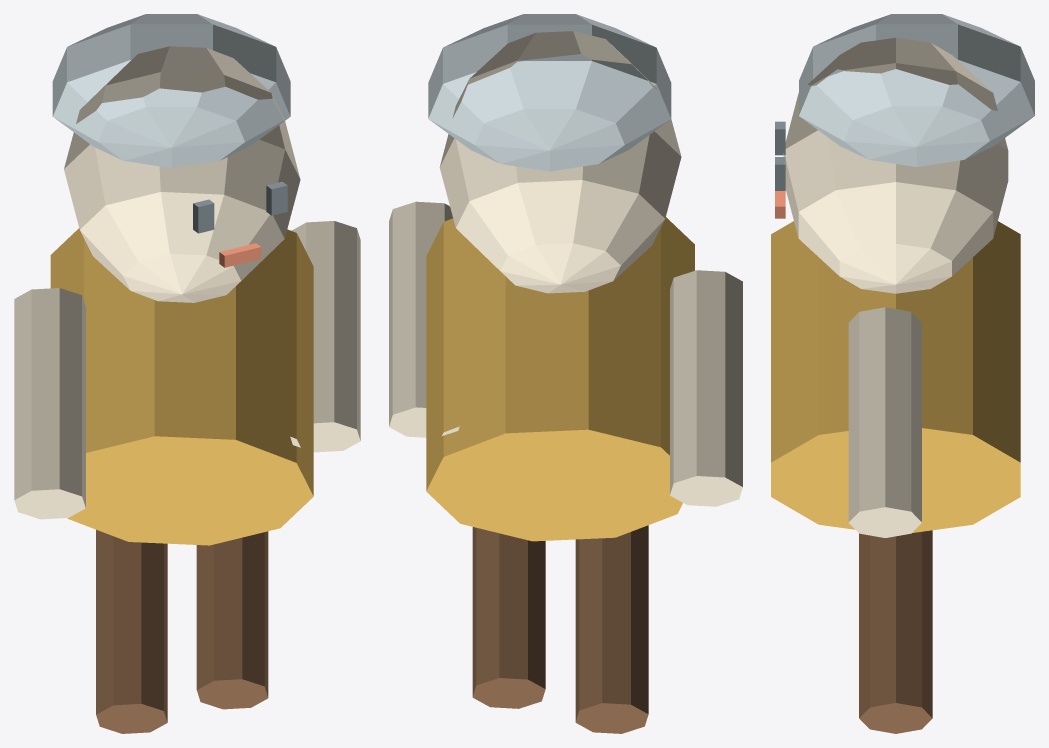
File: guest_mustard.glb
3 views of the same model, side by side, from view 1: azimuth 30°, elevation 25°; view 2: azimuth 150°, elevation 25°; view 3: azimuth 270°, elevation 25° (orthographic). The views are drawn at different scales.
Visible parts, largest first — view 1: guest_mustard; view 2: guest_mustard; view 3: guest_mustard.
Part boxes in pixels (left/top/right/bottom): guest_mustard: left=14, top=14, right=360, bottom=733; guest_mustard: left=389, top=14, right=742, bottom=733; guest_mustard: left=771, top=14, right=1034, bottom=733.
Bounding box in the file's own units: 0.74 × 1.39 × 0.5026.
